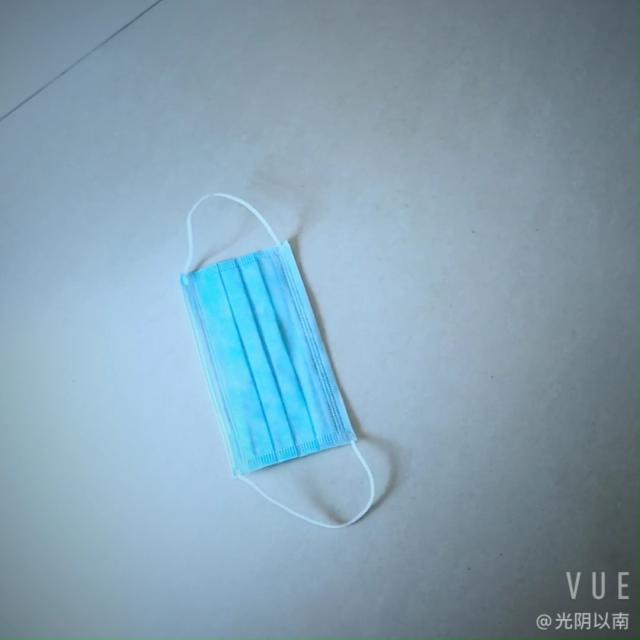face mask: (170, 219, 368, 469)
